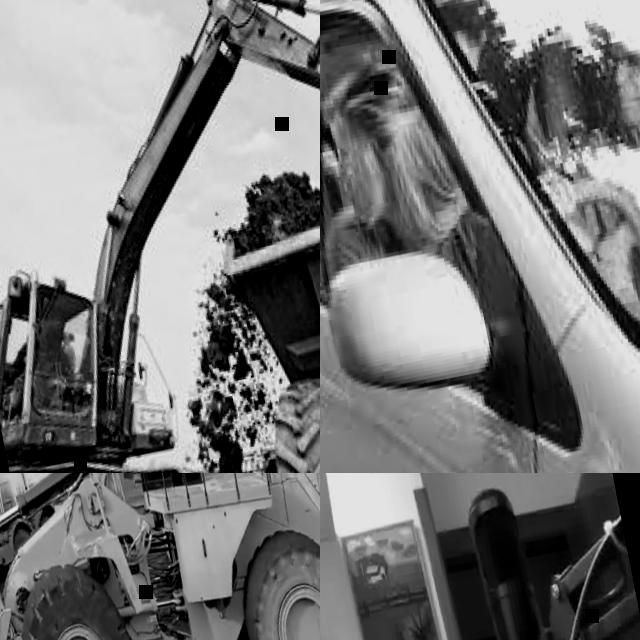machinery: (0, 0, 320, 473), (0, 473, 320, 640), (204, 100, 320, 473), (0, 473, 79, 628)
no_helmet: (320, 58, 420, 151)
no_mask: (346, 170, 396, 228), (608, 85, 640, 130)
person: (320, 30, 592, 319), (548, 0, 640, 301)
vehicle: (320, 0, 640, 473)
